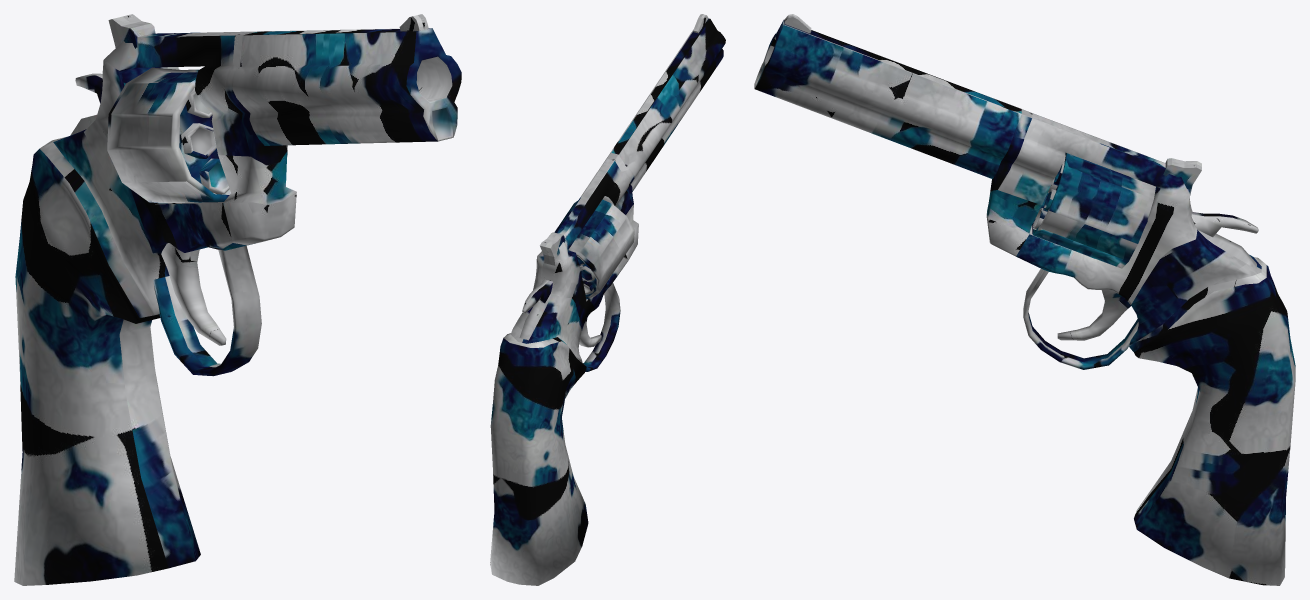
File: Gun1.fbx
The picture shows the model from 3 angles, left to right: view 1: azimuth 30°, elevation 25°; view 2: azimuth 150°, elevation 25°; view 3: azimuth 270°, elevation 25°; orthographic projection. The views are drawn at different scales.
Parts seen in each view (by area): view 1: pistol1; view 2: pistol1; view 3: pistol1.
Part boxes in pixels (x1,y1,x2,y2): pistol1: (14,14,461,585); pistol1: (490,14,725,585); pistol1: (754,14,1295,585).
Bounding box in the file's own units: 94.02 × 480 × 422.
